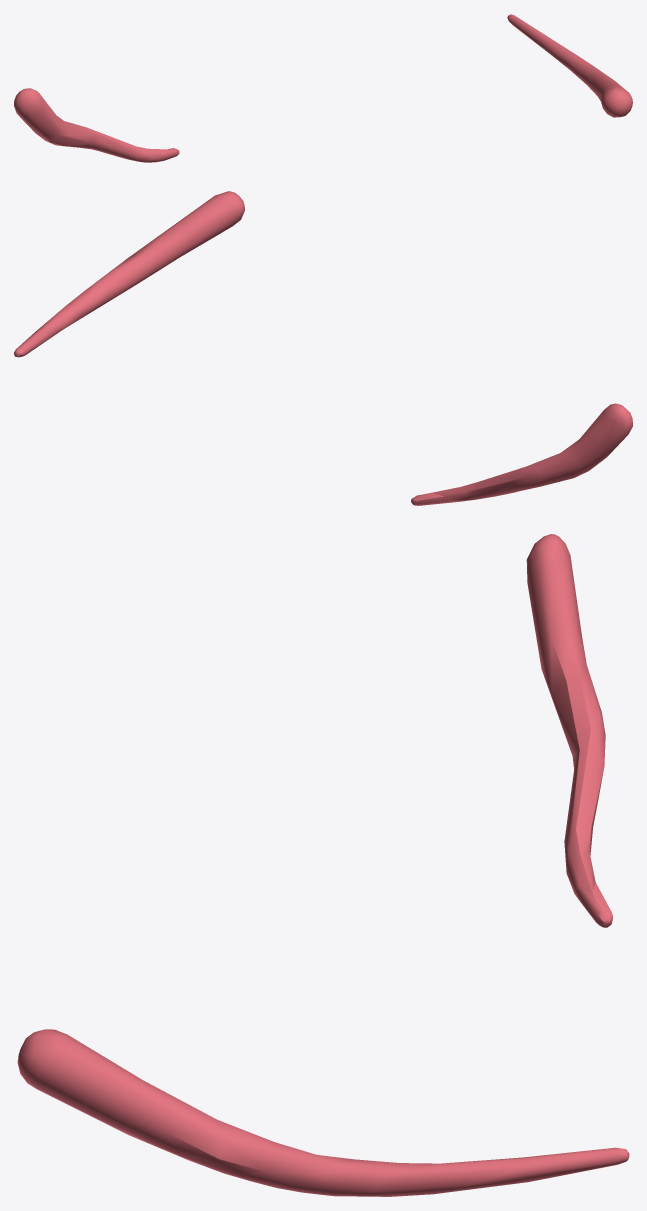
The model's file is fma44885_fj2194.glb.
The picture shows the model from 3 angles, top to bottom: view 1: azimuth 30°, elevation 25°; view 2: azimuth 150°, elevation 25°; view 3: azimuth 270°, elevation 25°; orthographic projection. The views are drawn at different scales.
Visible parts, largest first — view 1: FMA44885_FJ2194; view 2: FMA44885_FJ2194; view 3: FMA44885_FJ2194.
Boxes of the visible parts, bbox=[...] form: FMA44885_FJ2194: bbox=[14, 14, 632, 162]; FMA44885_FJ2194: bbox=[14, 191, 632, 505]; FMA44885_FJ2194: bbox=[17, 534, 629, 1196].
Bounding box in the file's own units: 0.0382 × 0.00804 × 0.0191.
